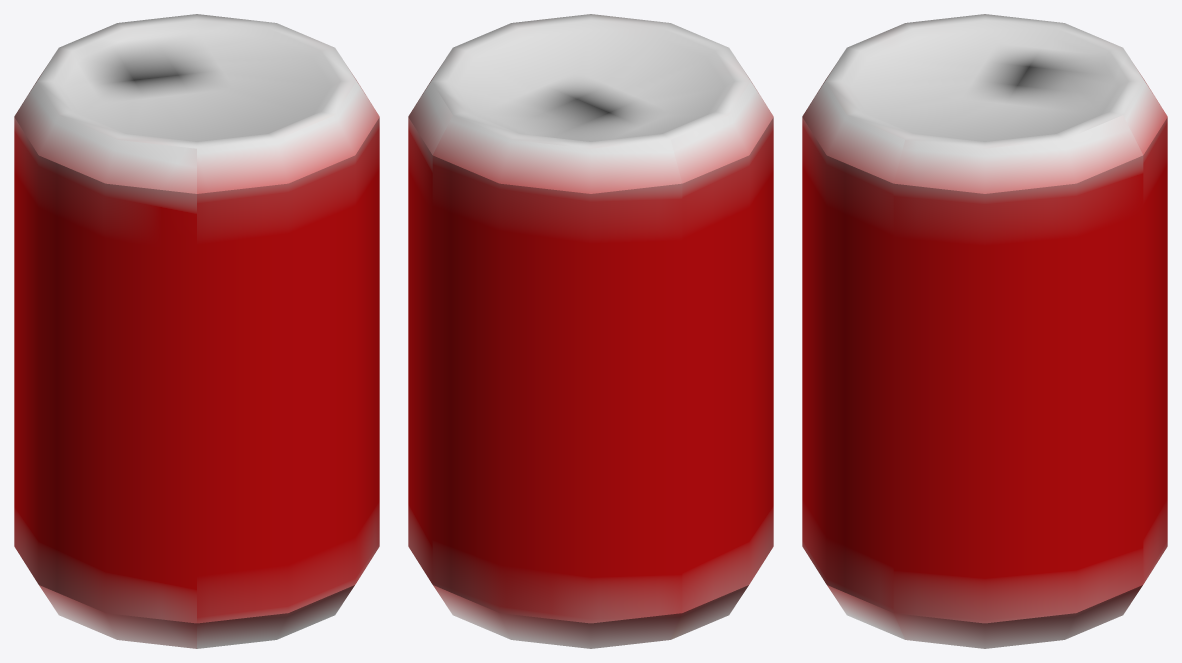
File: Can1.fbx
3 views of the same model, side by side, from view 1: azimuth 30°, elevation 25°; view 2: azimuth 150°, elevation 25°; view 3: azimuth 270°, elevation 25° (orthographic).
Parts seen in each view (by area): view 1: Can1; view 2: Can1; view 3: Can1.
Boxes of the visible parts, x1=… form: Can1: x1=14, y1=14, x2=379, y2=648; Can1: x1=408, y1=14, x2=773, y2=648; Can1: x1=802, y1=14, x2=1167, y2=648.
Bounding box in the file's own units: 5.72 × 8.63 × 5.72.
